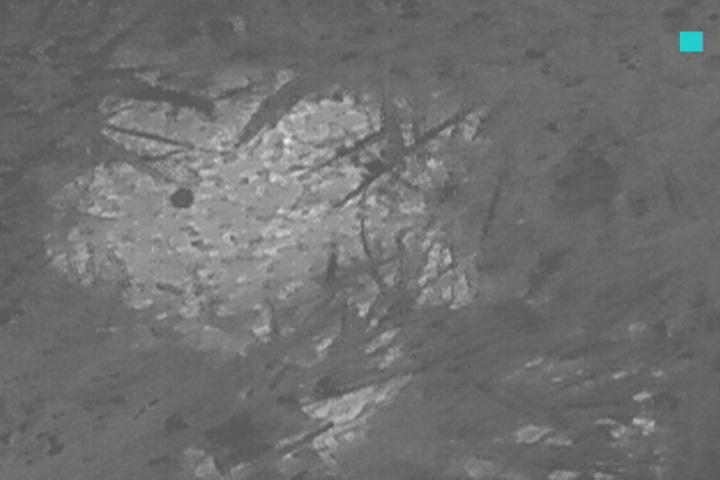landmine: (39, 70, 477, 418)
